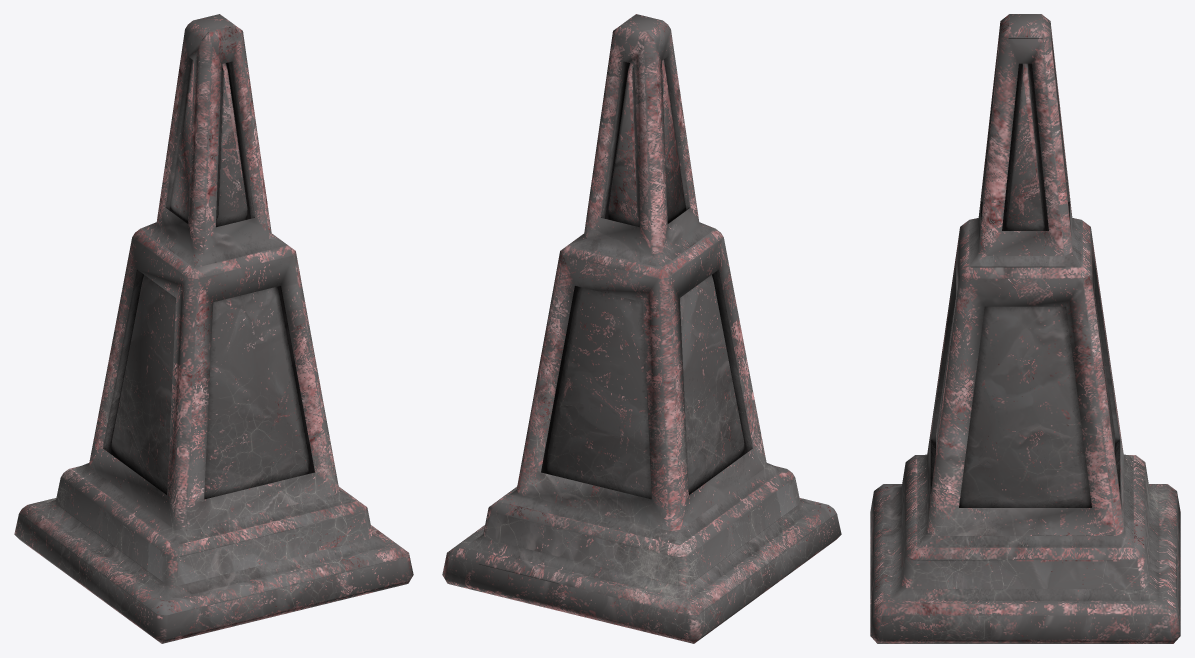
File: obelisk.fbx
The picture shows the model from 3 angles, left to right: view 1: azimuth 30°, elevation 25°; view 2: azimuth 150°, elevation 25°; view 3: azimuth 270°, elevation 25°; orthographic projection. The views are drawn at different scales.
Parts seen in each view (by area): view 1: obelisk; view 2: obelisk; view 3: obelisk.
Boxes of the visible parts, x1,y1,x2,y2 form: obelisk: (14,14,413,643); obelisk: (442,14,841,643); obelisk: (870,14,1180,643).
Size of the model in its own units: 418 by 834 by 418.
Materials: 1 (1 with a texture image).
